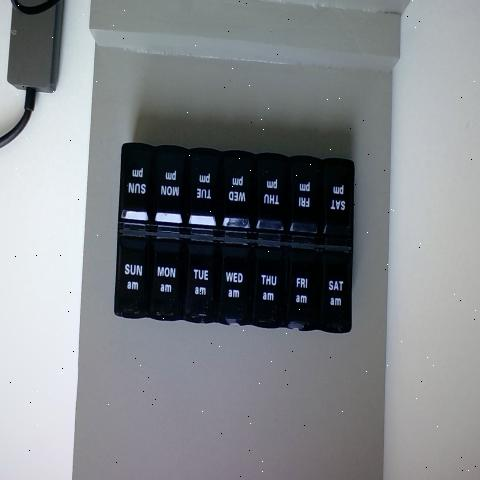FRI-am: (291, 246, 321, 328)
FRI-pm: (292, 162, 323, 246)
MON-am: (154, 242, 182, 327)
MON-pm: (153, 148, 187, 227)
PillBox: (100, 110, 368, 356)
SAT-am: (322, 249, 354, 336)
SAT-pm: (324, 163, 352, 243)
SUN-am: (115, 238, 147, 321)
SUN-pm: (123, 148, 151, 227)
THU-am: (255, 246, 288, 330)
THU-pm: (257, 164, 288, 247)
TUE-am: (188, 243, 220, 327)
TUE-pm: (192, 158, 220, 239)
WED-am: (220, 245, 254, 327)
WED-pm: (223, 158, 258, 243)
